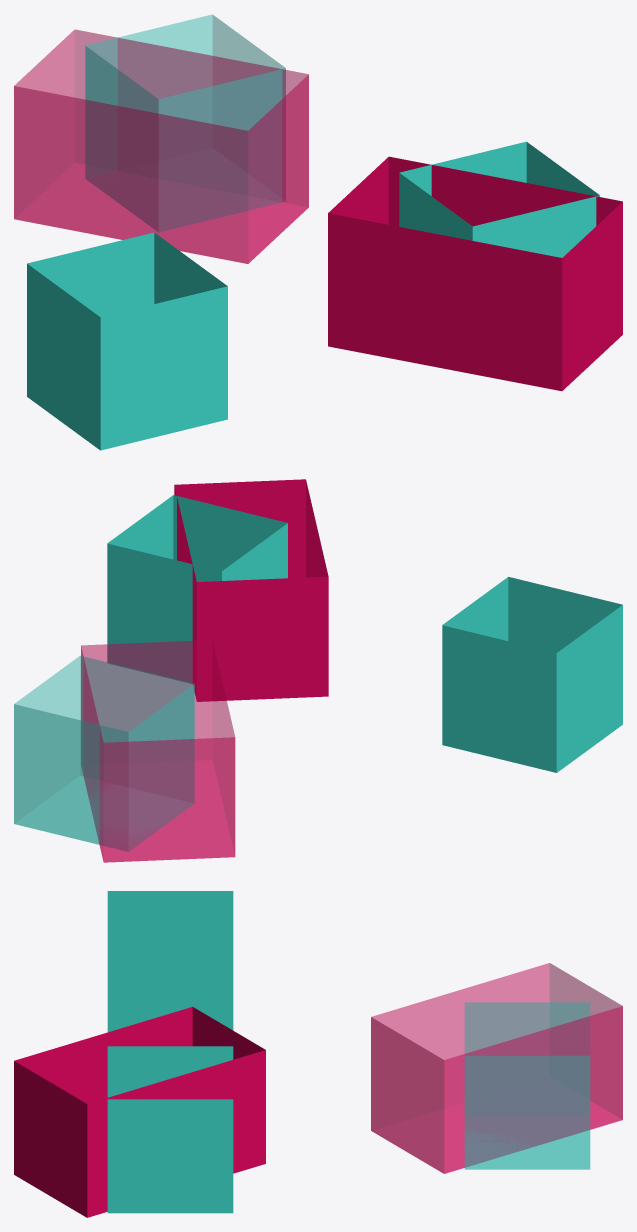
File: double-sided.gltf
3 renders of one model, top to bottom at view 1: azimuth 30°, elevation 25°; view 2: azimuth 150°, elevation 25°; view 3: azimuth 270°, elevation 25°, orthographic. The views are drawn at different scales.
Visible parts, largest first — view 1: Box4, Box, Box1, Box3, Box2; view 2: Box4, Box1, Box3, Box, Box2; view 3: Box4, Box, Box3, Box2, Box1.
Part boxes in pixels (box(x1,y1,x2,y2)): Box4: box(14, 29, 308, 263); Box: box(328, 156, 622, 391); Box1: box(27, 232, 227, 450); Box3: box(85, 14, 285, 231); Box2: box(399, 141, 599, 257); Box4: box(81, 640, 235, 862); Box1: box(442, 577, 622, 772); Box3: box(14, 656, 194, 851); Box: box(174, 479, 328, 701); Box2: box(107, 495, 287, 683); Box4: box(371, 963, 622, 1173); Box: box(14, 1006, 265, 1217); Box3: box(464, 1002, 590, 1169); Box2: box(107, 1046, 233, 1213); Box1: box(107, 891, 233, 1032).
Bounding box in the file's own units: 4.01 × 1 × 4.84.
